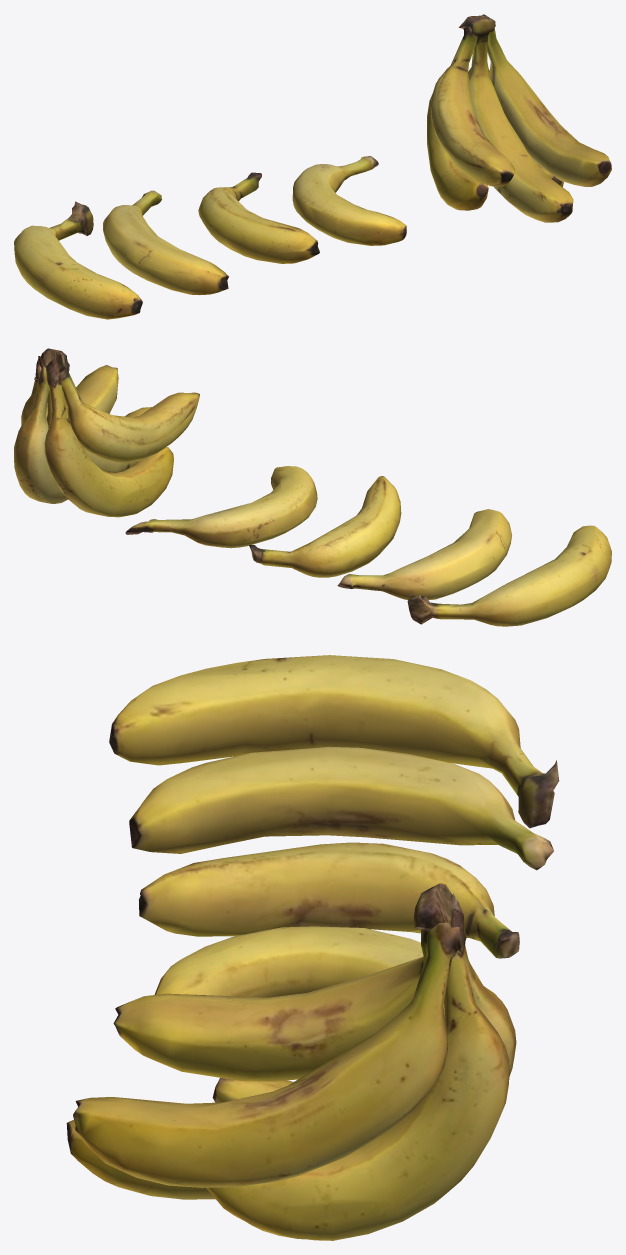
File: bananas.glb
3 renders of one model, top to bottom at view 1: azimuth 30°, elevation 25°; view 2: azimuth 150°, elevation 25°; view 3: azimuth 270°, elevation 25°, orthographic. The views are drawn at different scales.
Parts seen in each view (by area): view 1: bananas_bunch, bananas_d, bananas_c, bananas_a, bananas_b; view 2: bananas_bunch, bananas_d, bananas_c, bananas_a, bananas_b; view 3: bananas_bunch, bananas_d, bananas_c, bananas_b, bananas_a.
Boxes of the visible parts, x1,y1,x2,y2 form: bananas_bunch: [427, 14, 611, 222]; bananas_d: [14, 201, 142, 319]; bananas_c: [103, 190, 228, 295]; bananas_a: [292, 156, 406, 245]; bananas_b: [198, 172, 319, 263]; bananas_bunch: [14, 348, 199, 517]; bananas_d: [407, 525, 611, 626]; bananas_c: [337, 509, 511, 599]; bananas_a: [125, 466, 317, 548]; bananas_b: [249, 476, 401, 577]; bananas_bunch: [66, 883, 516, 1240]; bananas_d: [109, 655, 559, 828]; bananas_c: [129, 746, 553, 870]; bananas_b: [139, 842, 519, 958]; bananas_a: [154, 926, 423, 997].
Size of the model in its own units: 0.5996 by 0.1787 by 0.2438.
1 material, 1 textured.
